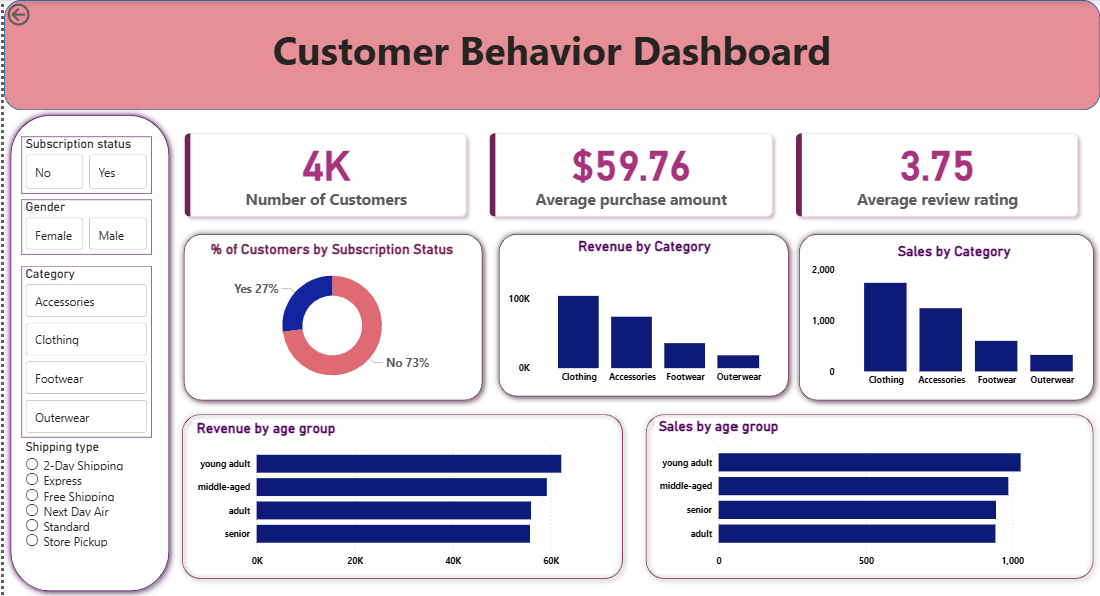

What the dashboard file says about the page in this screenshot:
{"tool":"powerbi","page":{"name":"Page 1","canvas":[1500,820],"ordinal":0},"visuals":[{"type":"cardVisual","fields":{"Data":["public customer.Number of Customers","public customer.Average purchase amount","public customer.Average review rating"]},"box":[218.9,154.1,1281.1,173],"z":0},{"type":"shape","box":[0,0,1500,151],"z":1},{"type":"textbox","box":[0,27,1500,124.3],"z":2},{"type":"shape","box":[237.8,310.8,427,245.9],"z":3},{"type":"actionButton","box":[0,0,100,40],"z":5},{"type":"donutChart","title":"% of Customers by Subscription Status","fields":{"Category":["public customer.subscription_status"],"Y":["CountNonNull(public customer.customer_id)"]},"box":[259.5,329.7,381.1,208.1],"z":6},{"type":"shape","box":[667.6,310.8,413.5,240.5],"z":7},{"type":"shape","box":[1078.4,310.8,421.6,245.9],"z":8},{"type":"clusteredColumnChart","title":"Revenue by Category","fields":{"Y":["Sum(public customer.purchase_amount)"],"Category":["public customer.category"]},"box":[686.5,327,383.8,208.1],"z":9},{"type":"clusteredColumnChart","title":"Sales by Category","fields":{"Category":["public customer.category"],"Y":["CountNonNull(public customer.customer_id)"]},"box":[1100,332.4,400,205.4],"z":10},{"type":"shape","box":[0,148.6,235.1,670.3],"z":11},{"type":"advancedSlicerVisual","fields":{"Values":["public customer.subscription_status"]},"box":[24.3,186.5,178.4,78.4],"z":12},{"type":"advancedSlicerVisual","fields":{"Values":["public customer.gender"]},"box":[24.3,273,178.4,75.7],"z":13},{"type":"advancedSlicerVisual","fields":{"Values":["public customer.category"]},"box":[24.3,364.9,178.4,235.1],"z":14},{"type":"listSlicer","fields":{"Values":["public customer.shipping_type"]},"box":[25,602.1,189.6,202.1],"z":15},{"type":"shape","box":[235.1,559.5,621.6,243.2],"z":17},{"type":"shape","box":[870.3,559.5,629.7,243.2],"z":18},{"type":"clusteredBarChart","title":"Sales by age group","fields":{"Category":["public customer.age_group"],"Y":["CountNonNull(public customer.customer_id)"]},"box":[891.9,573,589.2,213.5],"z":19},{"type":"clusteredBarChart","title":"Revenue by age group","fields":{"Y":["Sum(public customer.purchase_amount)"],"Category":["public customer.age_group"]},"box":[259.5,575.7,573,210.8],"z":20}]}

Visuals, with their boxes in screenshot pixels (x1, y1, x2, y2), scaled from the page's 1500x820 canvas onto the 1100x596 screenshot:
cardVisual - public customer.Number of Customers x public customer.Average purchase amount: pyautogui.locateOnScreen(161, 112, 1099, 238)
shape: pyautogui.locateOnScreen(0, 0, 1099, 110)
textbox: pyautogui.locateOnScreen(0, 20, 1099, 110)
shape: pyautogui.locateOnScreen(174, 226, 488, 405)
actionButton: pyautogui.locateOnScreen(0, 0, 73, 29)
"% of Customers by Subscription Status" donutChart: pyautogui.locateOnScreen(190, 240, 470, 391)
shape: pyautogui.locateOnScreen(490, 226, 793, 401)
shape: pyautogui.locateOnScreen(791, 226, 1099, 405)
"Revenue by Category" clusteredColumnChart: pyautogui.locateOnScreen(503, 238, 785, 389)
"Sales by Category" clusteredColumnChart: pyautogui.locateOnScreen(807, 242, 1099, 391)
shape: pyautogui.locateOnScreen(0, 108, 172, 595)
advancedSlicerVisual - public customer.subscription_status: pyautogui.locateOnScreen(18, 136, 149, 193)
advancedSlicerVisual - public customer.gender: pyautogui.locateOnScreen(18, 198, 149, 253)
advancedSlicerVisual - public customer.category: pyautogui.locateOnScreen(18, 265, 149, 436)
listSlicer - public customer.shipping_type: pyautogui.locateOnScreen(18, 438, 157, 585)
shape: pyautogui.locateOnScreen(172, 407, 628, 583)
shape: pyautogui.locateOnScreen(638, 407, 1099, 583)
"Sales by age group" clusteredBarChart: pyautogui.locateOnScreen(654, 416, 1086, 572)
"Revenue by age group" clusteredBarChart: pyautogui.locateOnScreen(190, 418, 610, 572)
